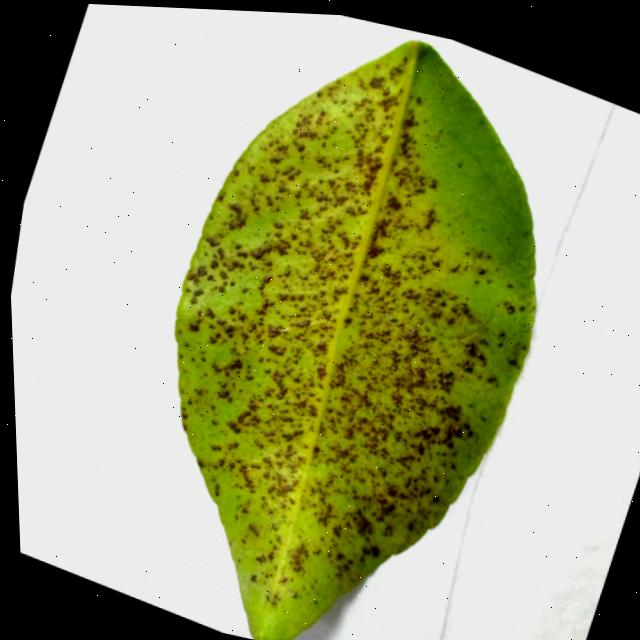melanose: (175, 40, 534, 640)
